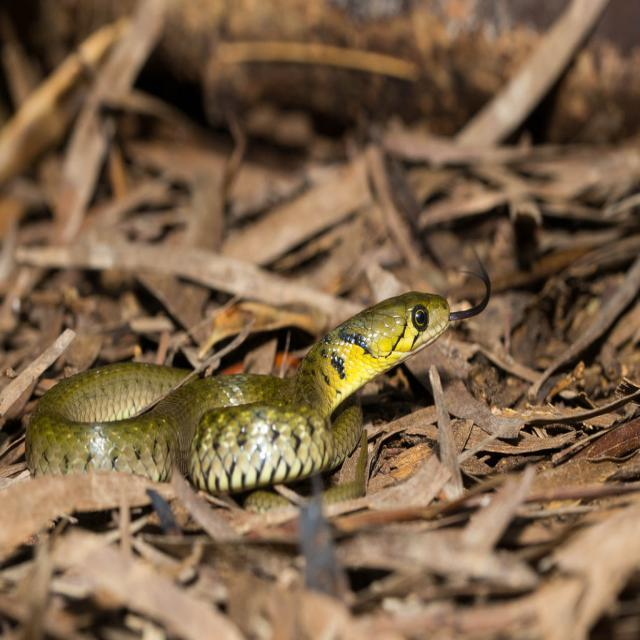Snake: (23, 254, 490, 502)
